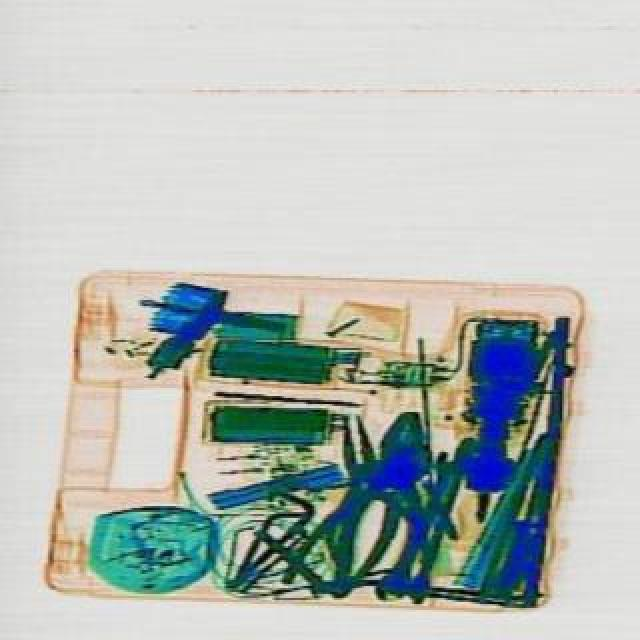wrench: (298, 406, 430, 586), (330, 402, 446, 588)
